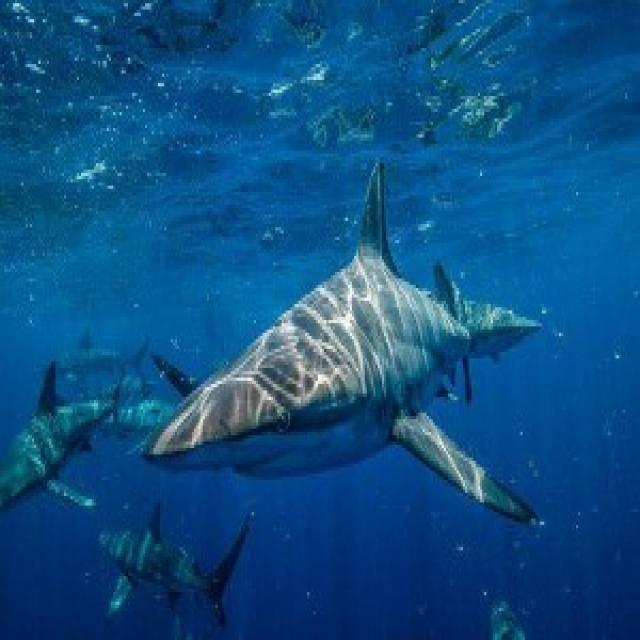Shark: (147, 148, 563, 532), (83, 518, 259, 636), (0, 351, 114, 514)
